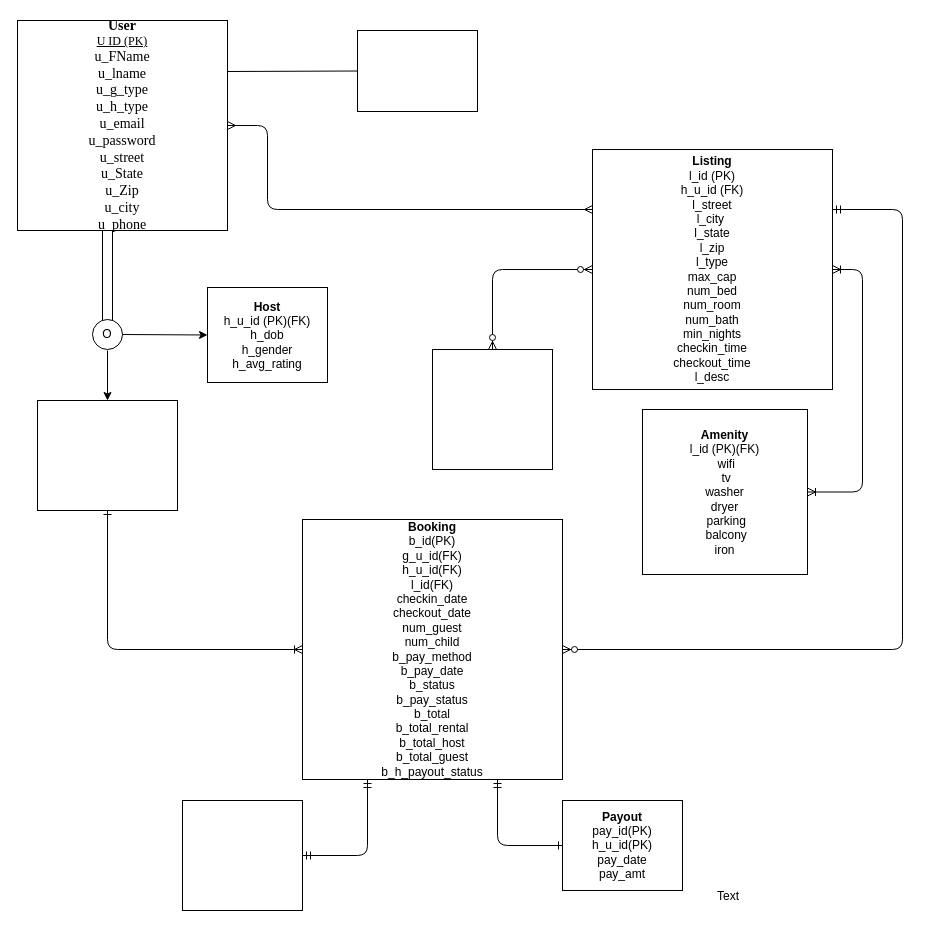
This 929x928 diagram has some shape labels left out. The box of each missing label's shape, as (x1, y1, x2, y2) in pixels:
Guest G_u_id (PK FK) G_dob G_Gender G_Job G_avg_rating: (36, 400, 178, 510)
Message m_id(PK) u_id(FK) m_date m_body: (356, 30, 478, 112)
Period p_id(PK) l_id(FK) start_date end_date price_night: (432, 348, 552, 470)
Review b_id(PK,FK) h_rating g_rating r_body: (182, 800, 302, 910)
